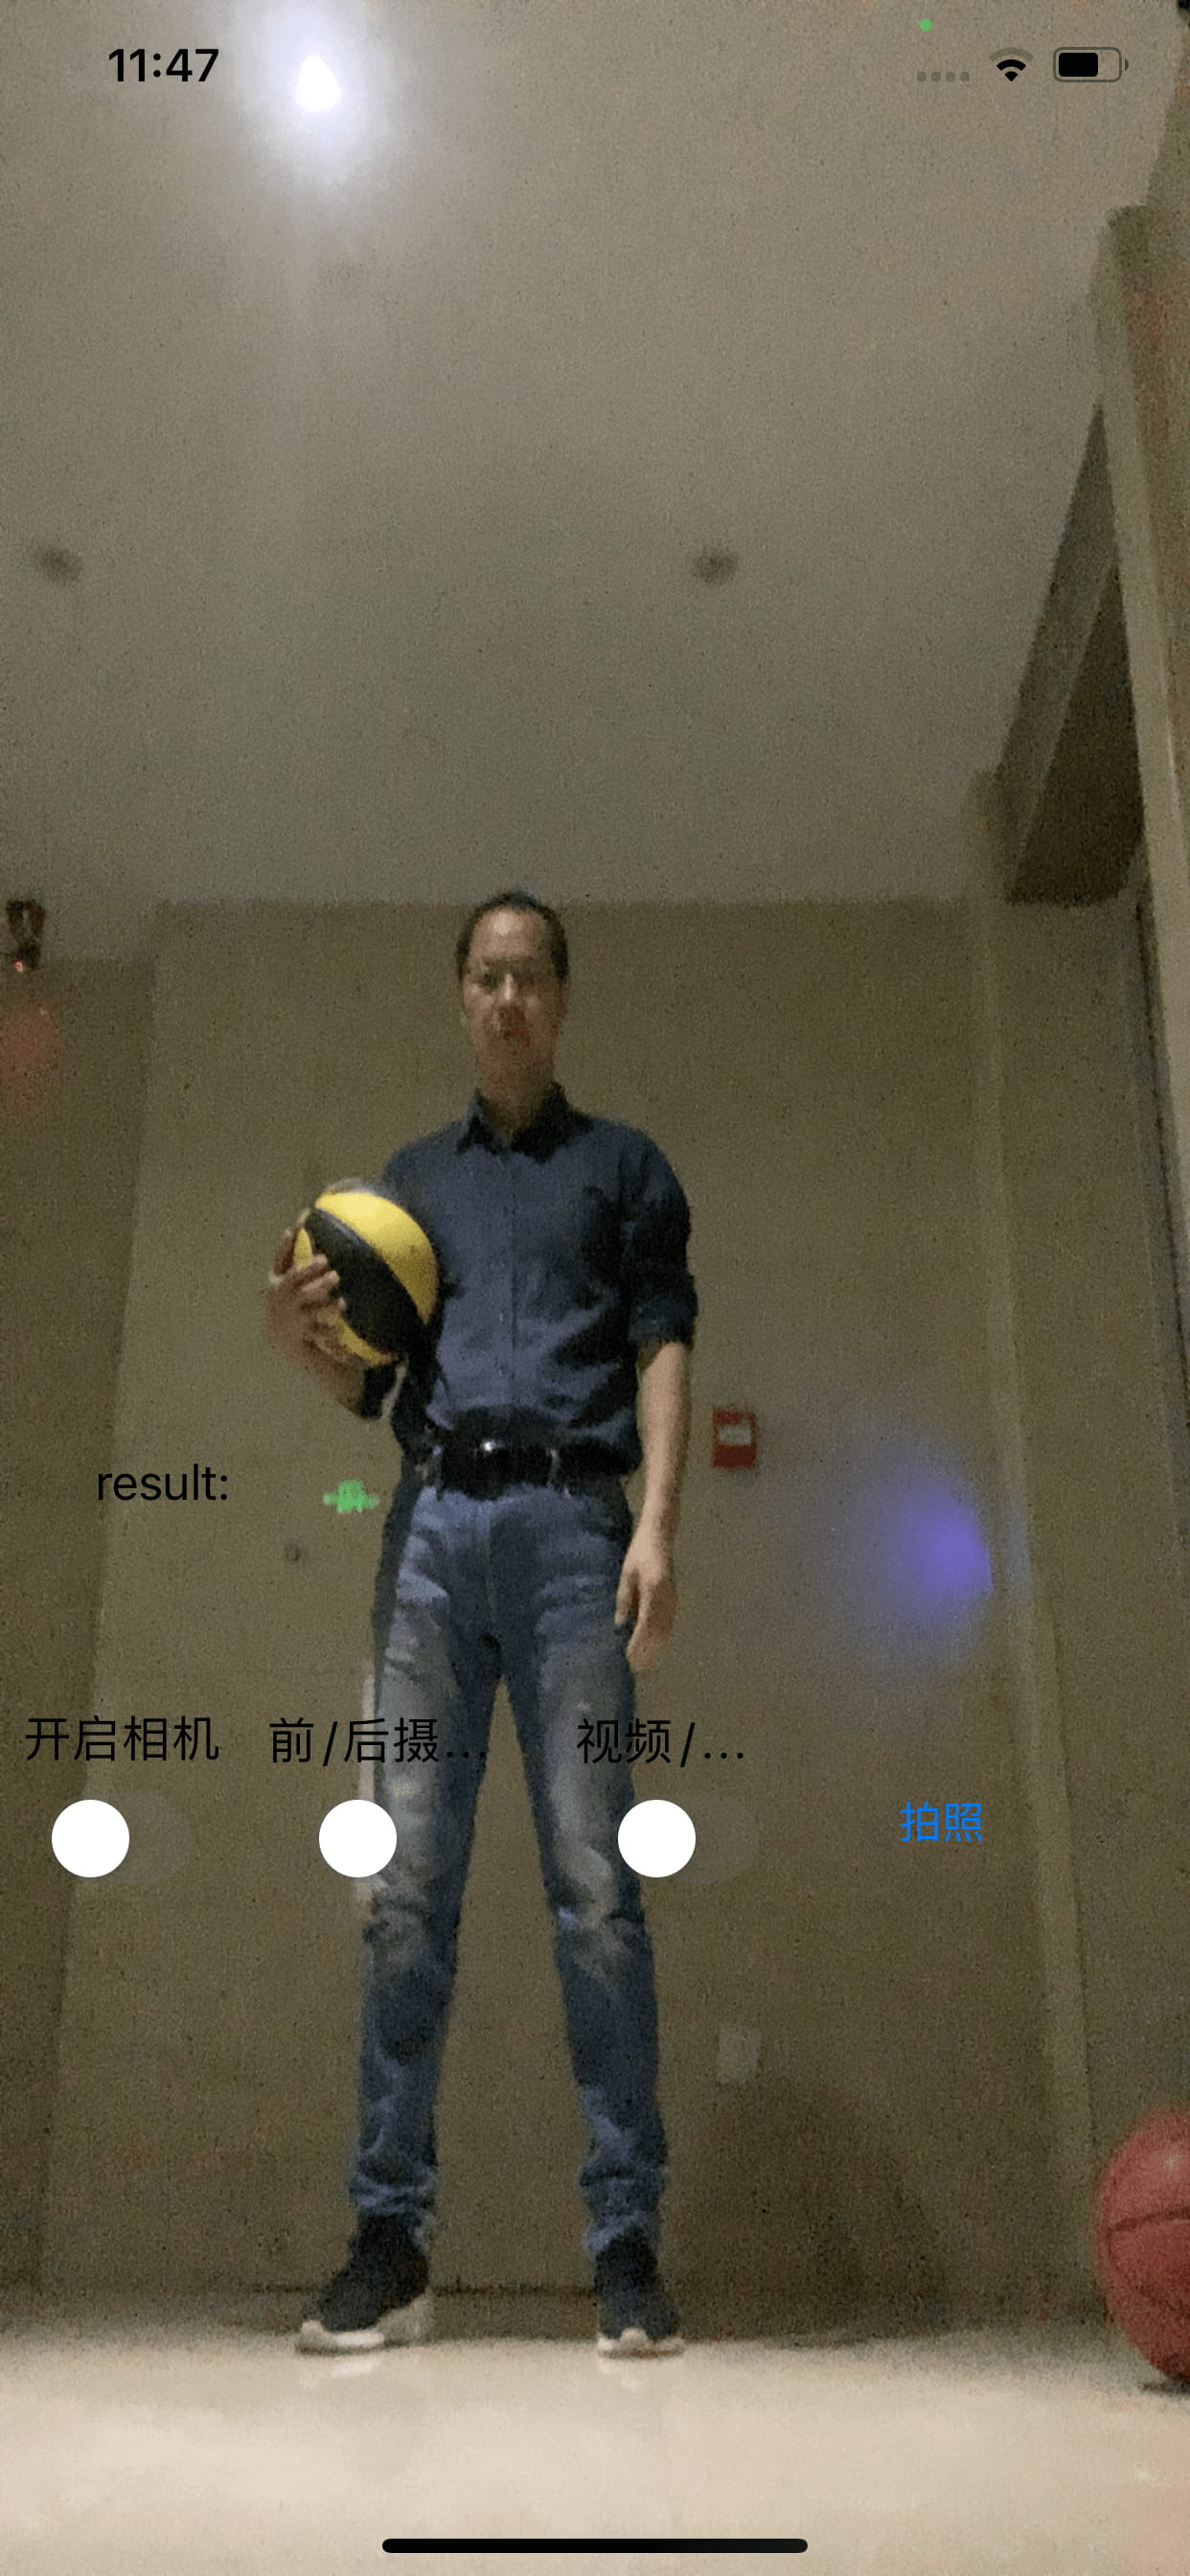ball: (279, 1181, 444, 1372), (1090, 2103, 1190, 2389)
